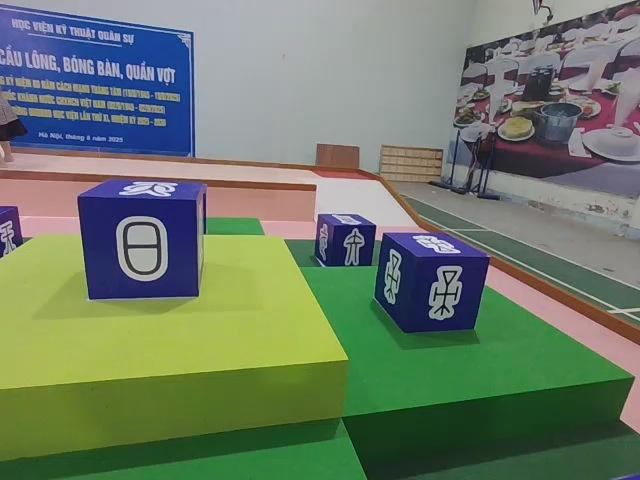R2 Fake Blue: (78, 182, 208, 305), (316, 216, 378, 271)
R2 Real Blue: (373, 232, 489, 335), (0, 205, 24, 269)
